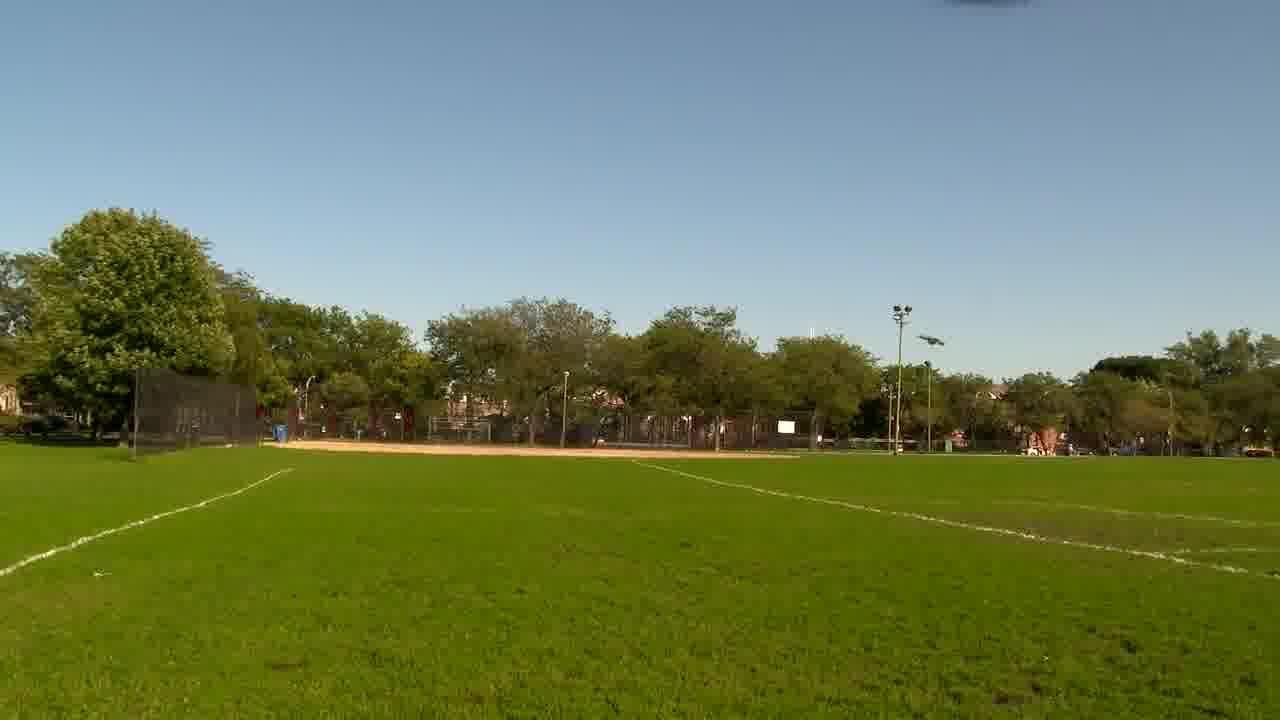drone: (911, 327, 945, 351)
